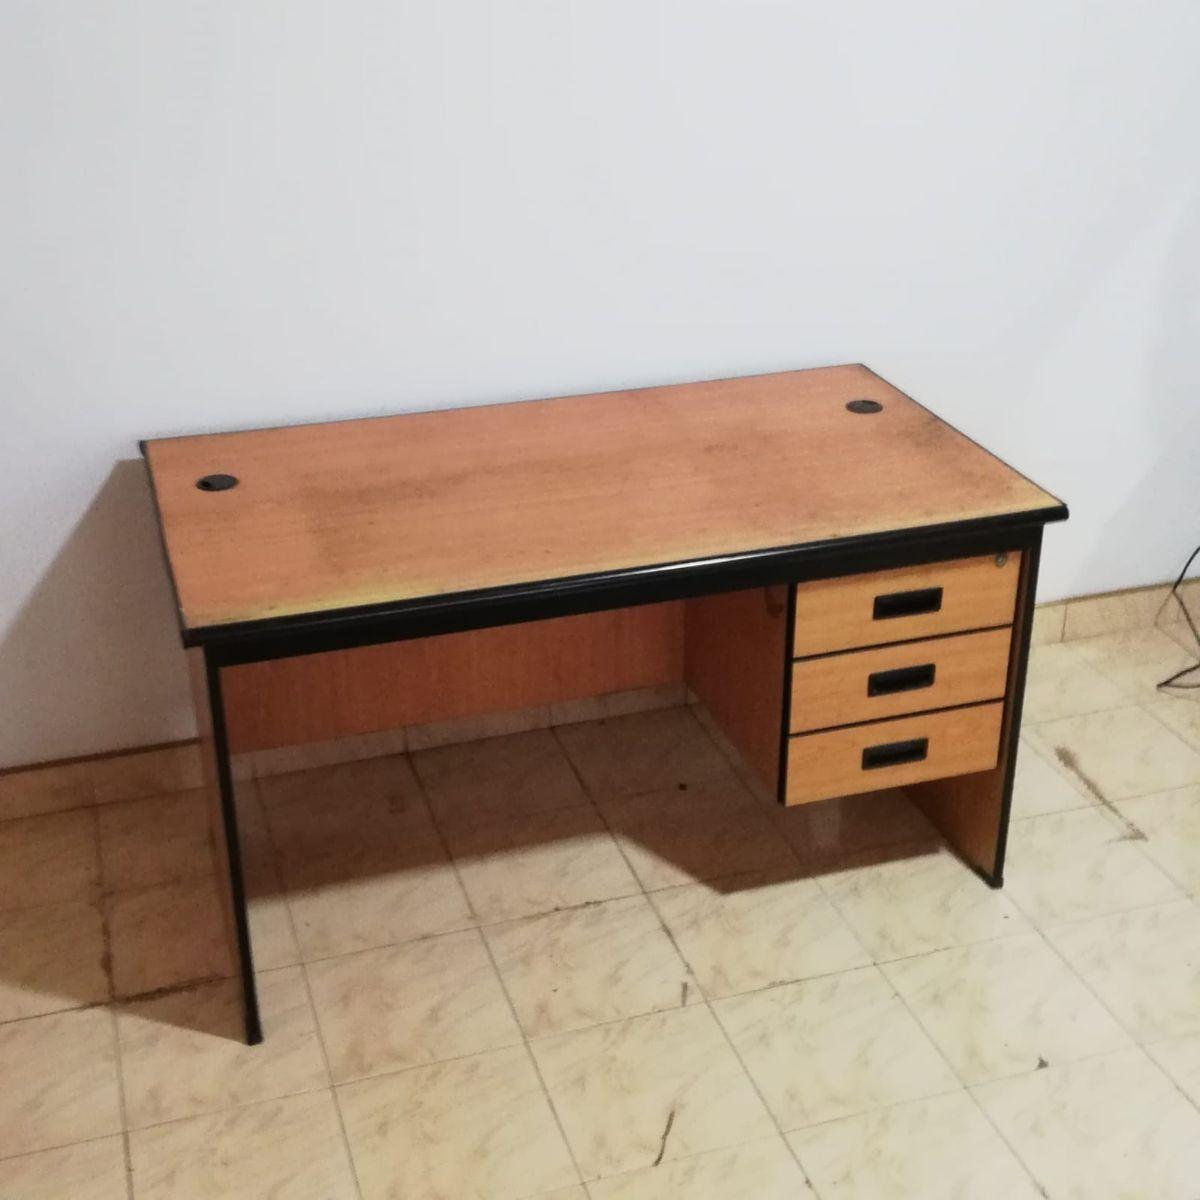Table: (105, 359, 1102, 1073)
